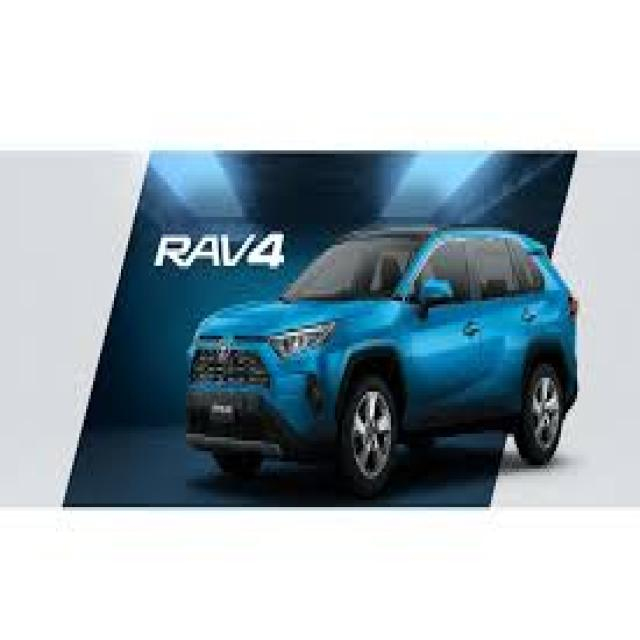light_vehicle: (185, 224, 581, 500)
